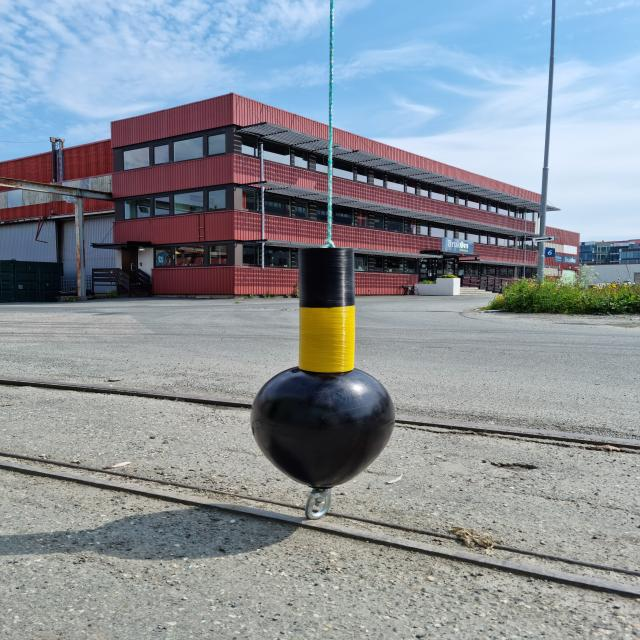east: (250, 247, 397, 489)
